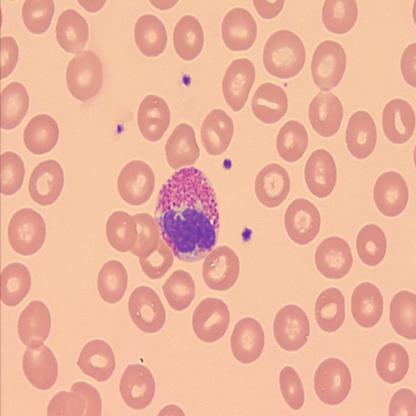Eosinophil: (154, 166, 224, 262)
